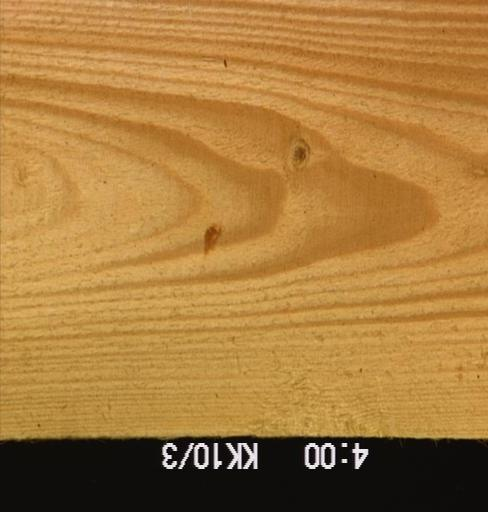sound_knot: (284, 137, 314, 174)
